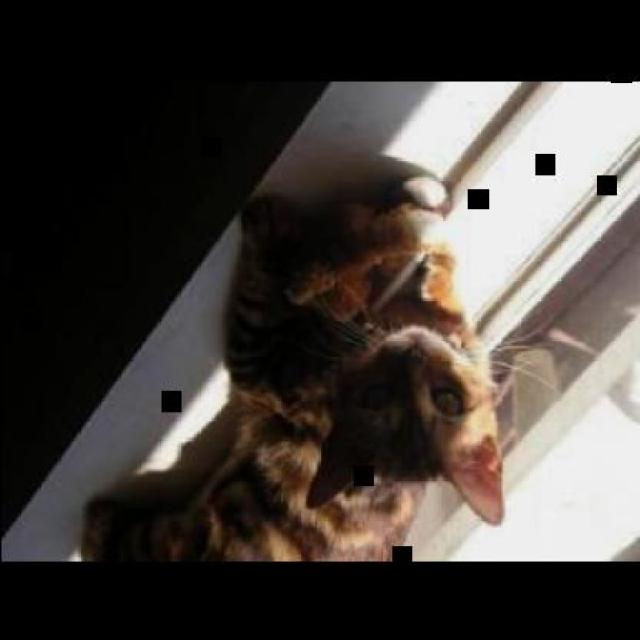unauthorized: (77, 173, 554, 562)
